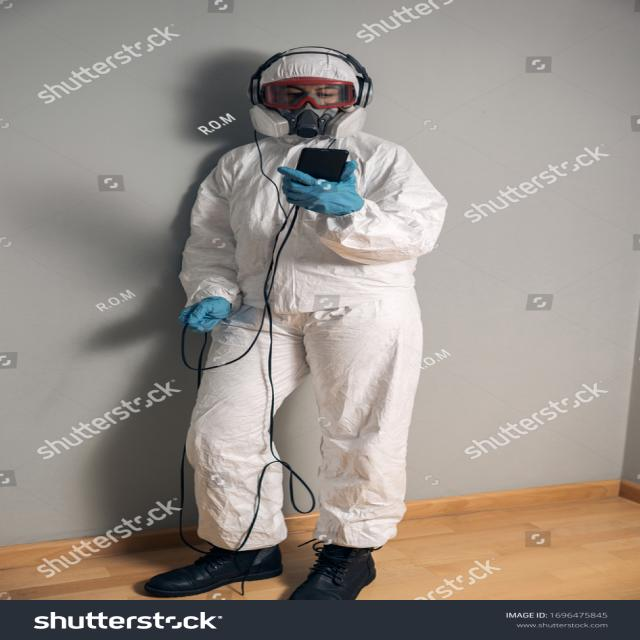Coverall: (185, 48, 438, 600)
Gloves: (273, 159, 381, 232), (185, 288, 254, 347)
